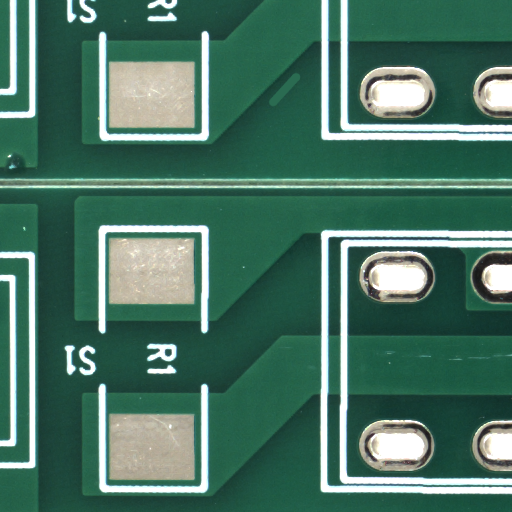Spurious_copper: (284, 88, 317, 119)
